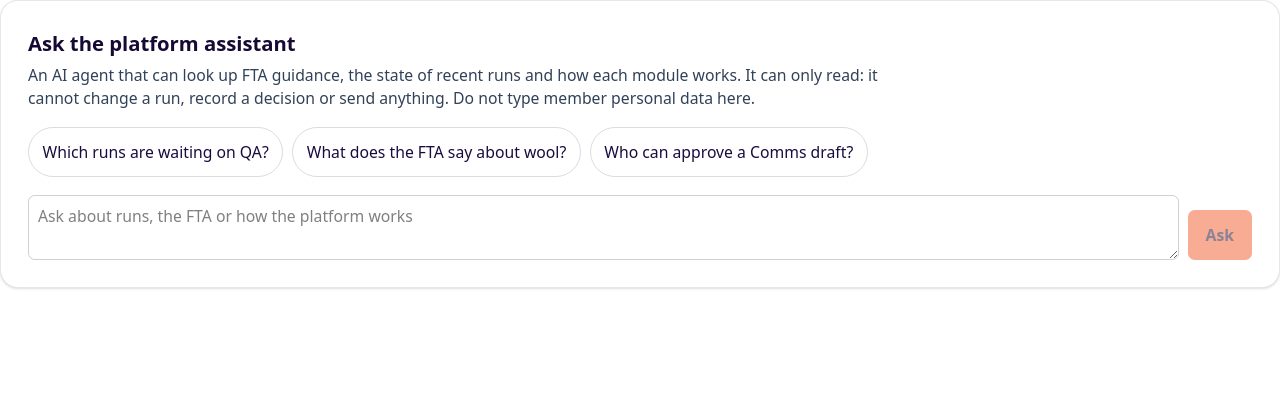
Test: PlatformAssistant › asks a suggested question in one click
Click the button "What does the FTA say about wool?".
click(436, 152)  # box [292,127,581,176]
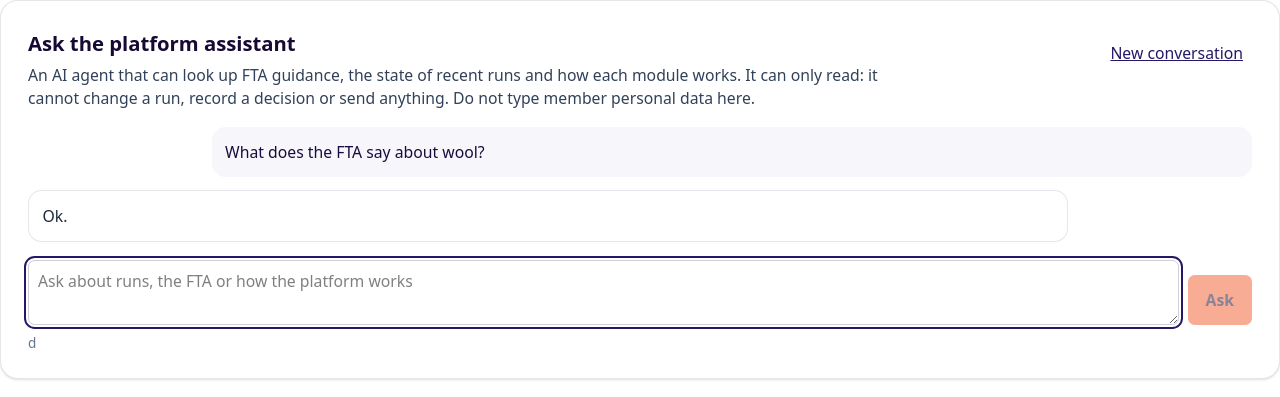
Expected: the text "Ok." is shown, [42,204,67,226]
